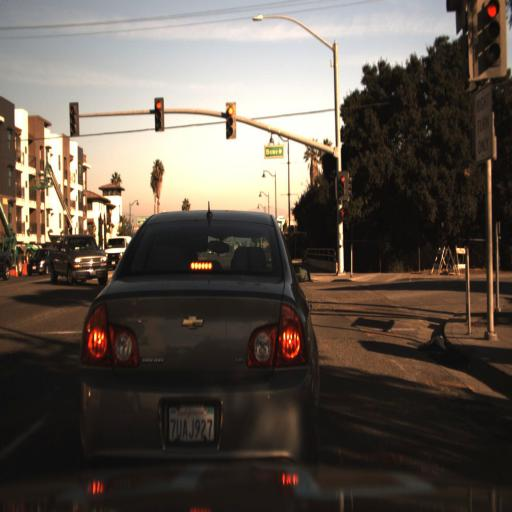car: (77, 207, 321, 479), (46, 232, 110, 289), (24, 240, 49, 280)
trafficLight: (225, 100, 236, 142), (68, 102, 79, 136)
trafficLight-Red: (470, 2, 508, 78), (477, 0, 498, 67), (153, 96, 164, 132), (336, 171, 349, 201), (339, 170, 346, 189)
